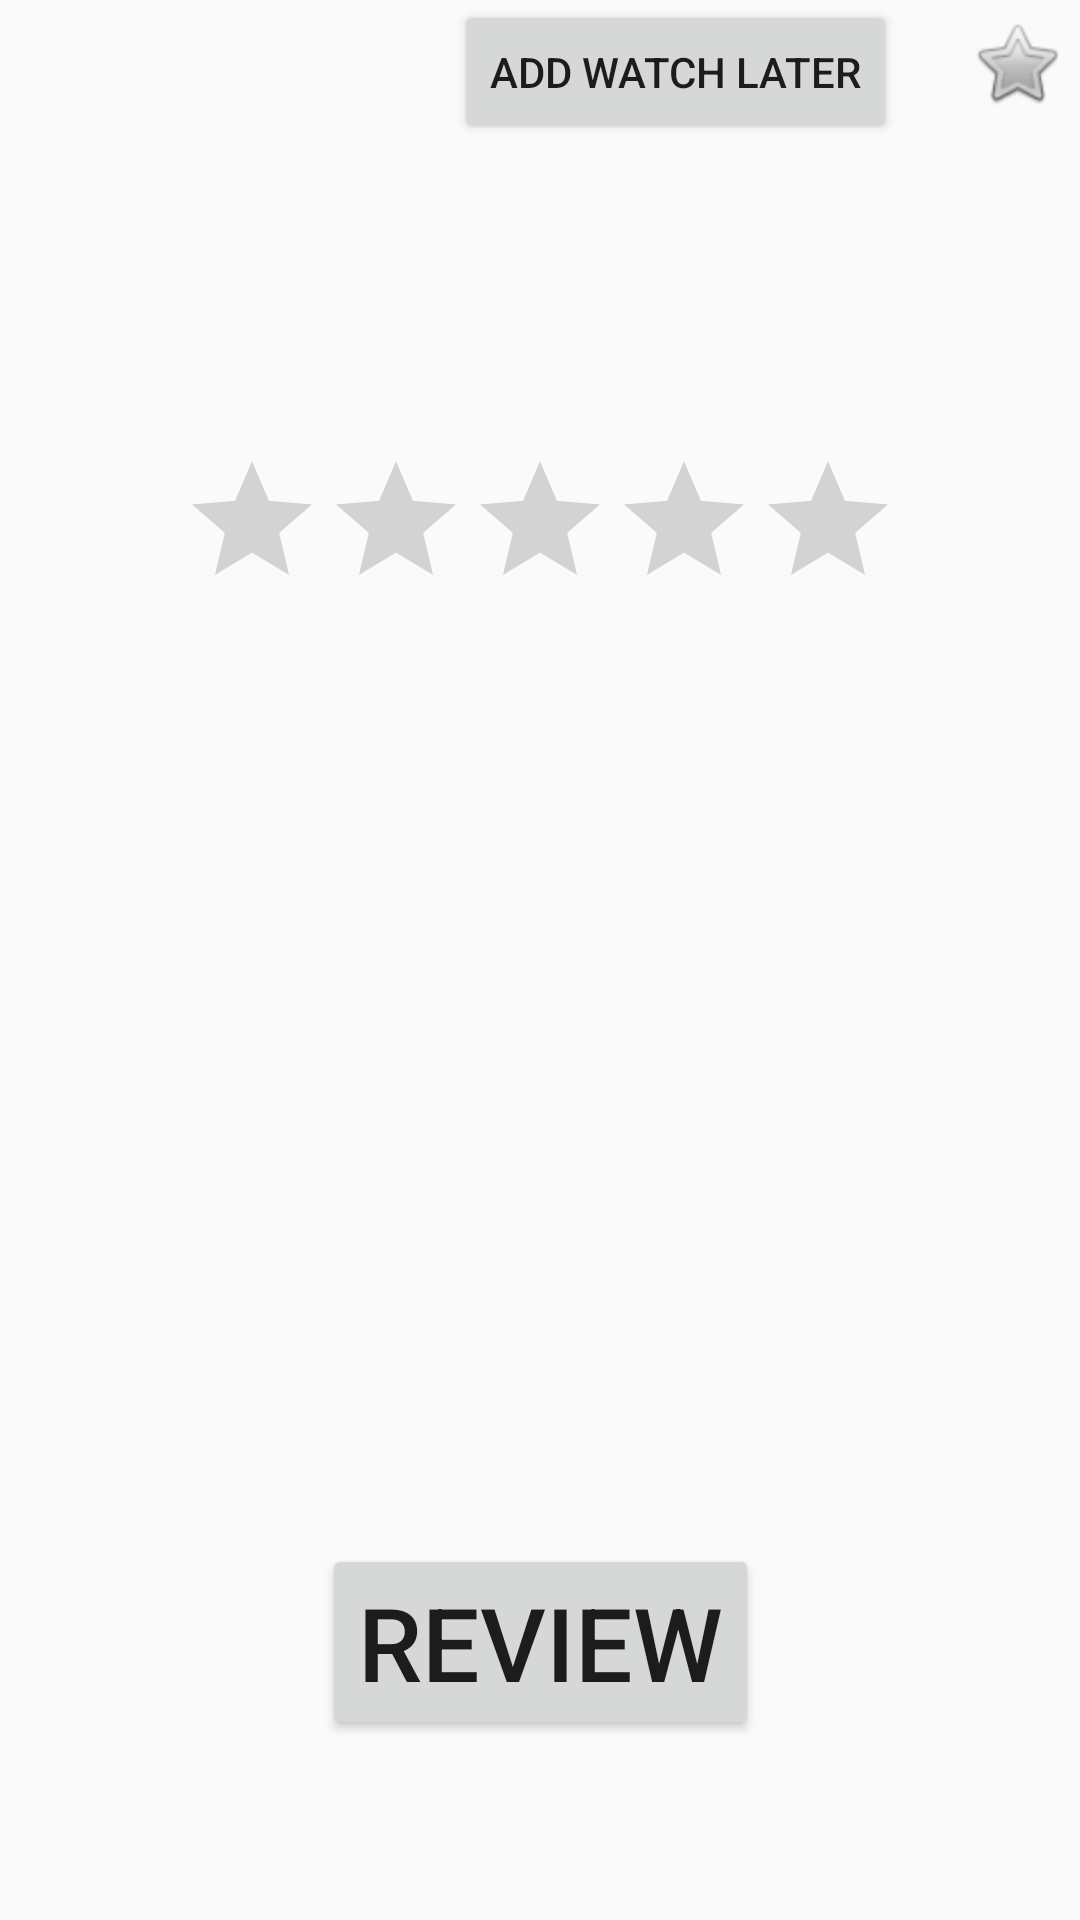

Screen size 1080 x 1920. Icon name, then its center in pixels as (x,y):
star off: (1018,64)
